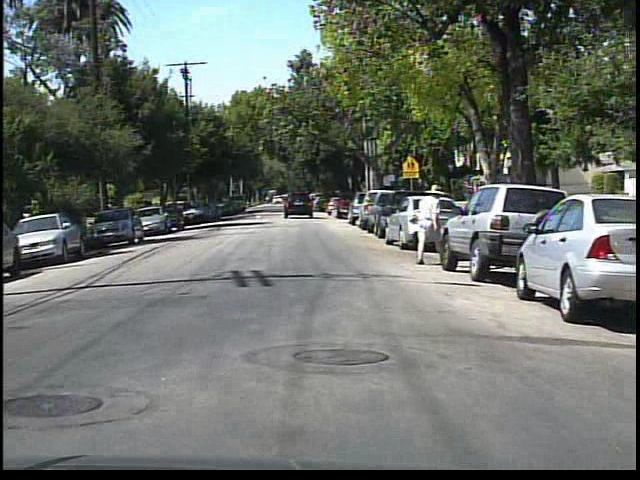person: (408, 182, 451, 268)
